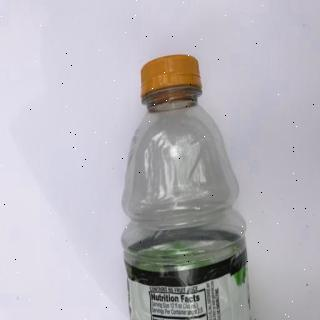Plastic-bottle: (117, 50, 259, 320)
